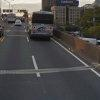Bus: (27, 7, 57, 42)
